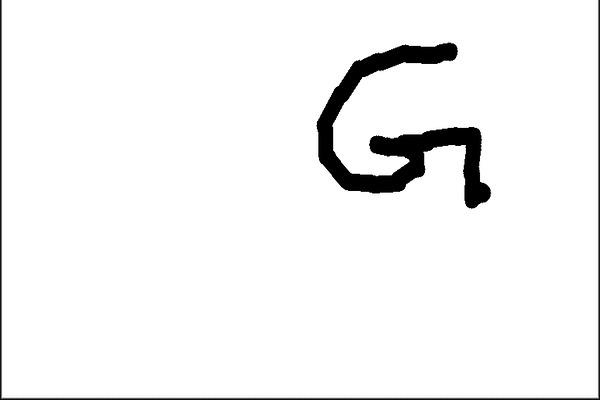G: (312, 38, 497, 211)
